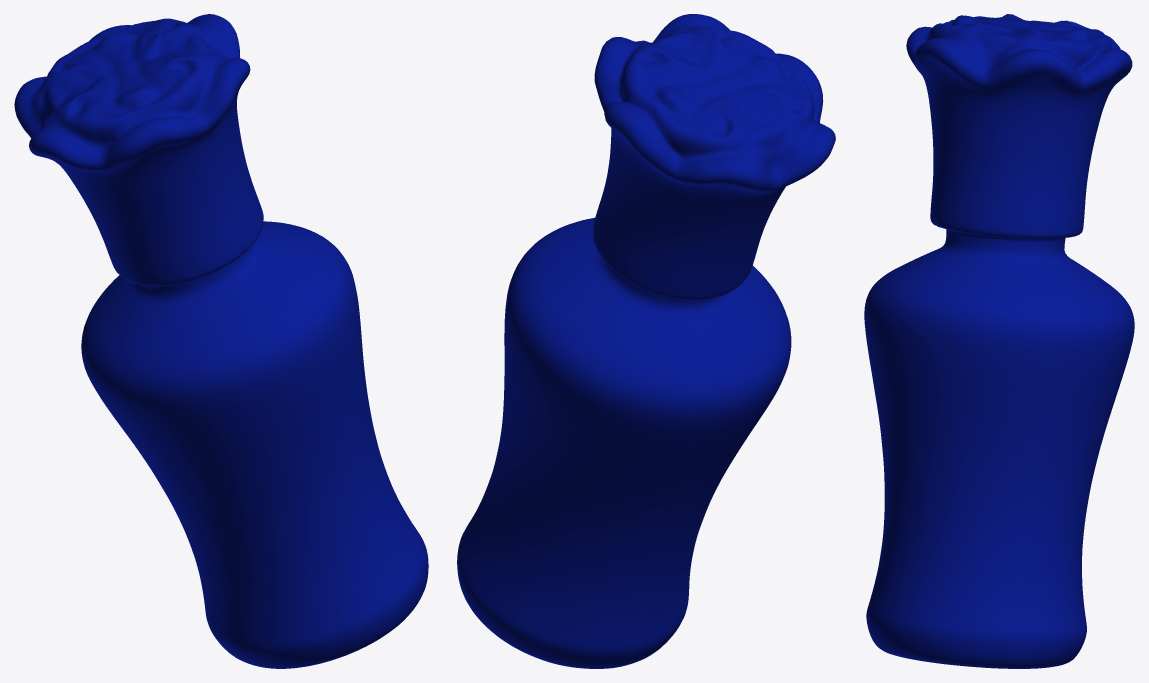
File: 1741236842304-blue_perfume_bottle1.glb
3 views of the same model, side by side, from view 1: azimuth 30°, elevation 25°; view 2: azimuth 150°, elevation 25°; view 3: azimuth 270°, elevation 25° (orthographic). The views are drawn at different scales.
Visible parts, largest first — view 1: Mesh1_Mesh1.026; view 2: Mesh1_Mesh1.026; view 3: Mesh1_Mesh1.026.
Boxes of the visible parts, x1,y1,x2,y2 form: Mesh1_Mesh1.026: (14,14,428,668); Mesh1_Mesh1.026: (457,14,835,668); Mesh1_Mesh1.026: (864,14,1134,668).
Bounding box in the file's own units: 1.24 × 2.04 × 0.8388.
